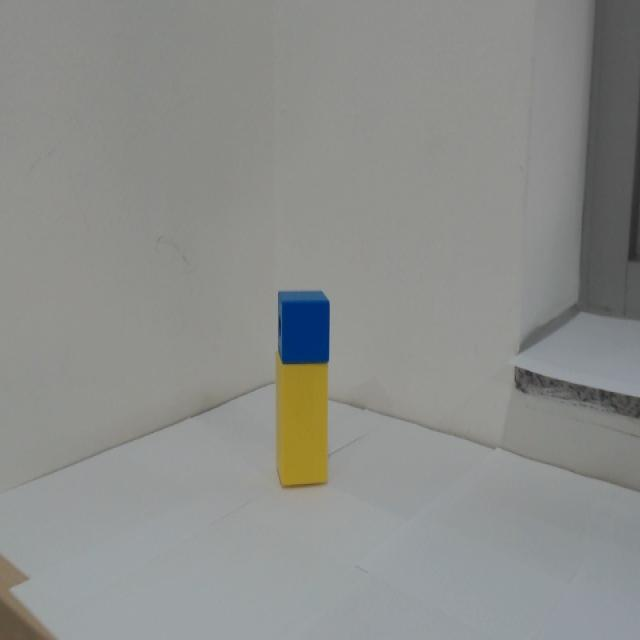cube: (276, 287, 331, 365)
